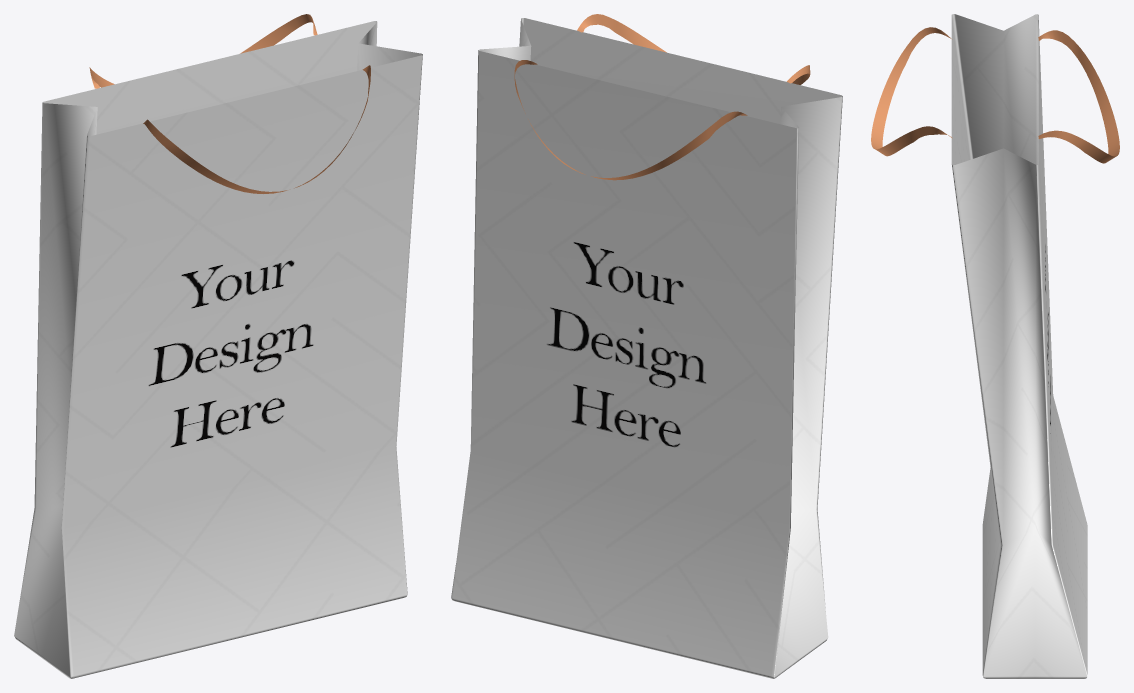
File: Paper Bag-1.glb
3 renders of one model, left to right at view 1: azimuth 30°, elevation 25°; view 2: azimuth 150°, elevation 25°; view 3: azimuth 270°, elevation 25°, orthographic. The views are drawn at different scales.
Parts seen in each view (by area): view 1: Object_2.001, Object_2.002; view 2: Object_2.001, Object_2.002; view 3: Object_2.001, Object_2.002.
Boxes of the visible parts, x1=… form: Object_2.001: x1=14, y1=21, x2=422, y2=678; Object_2.002: x1=89, y1=14, x2=370, y2=193; Object_2.001: x1=451, y1=18, x2=842, y2=678; Object_2.002: x1=514, y1=14, x2=810, y2=180; Object_2.001: x1=951, y1=14, x2=1087, y2=678; Object_2.002: x1=871, y1=27, x2=1119, y2=163.
Size of the model in its own units: 3.57 by 5.73 by 2.46.
2 materials, 1 textured.
